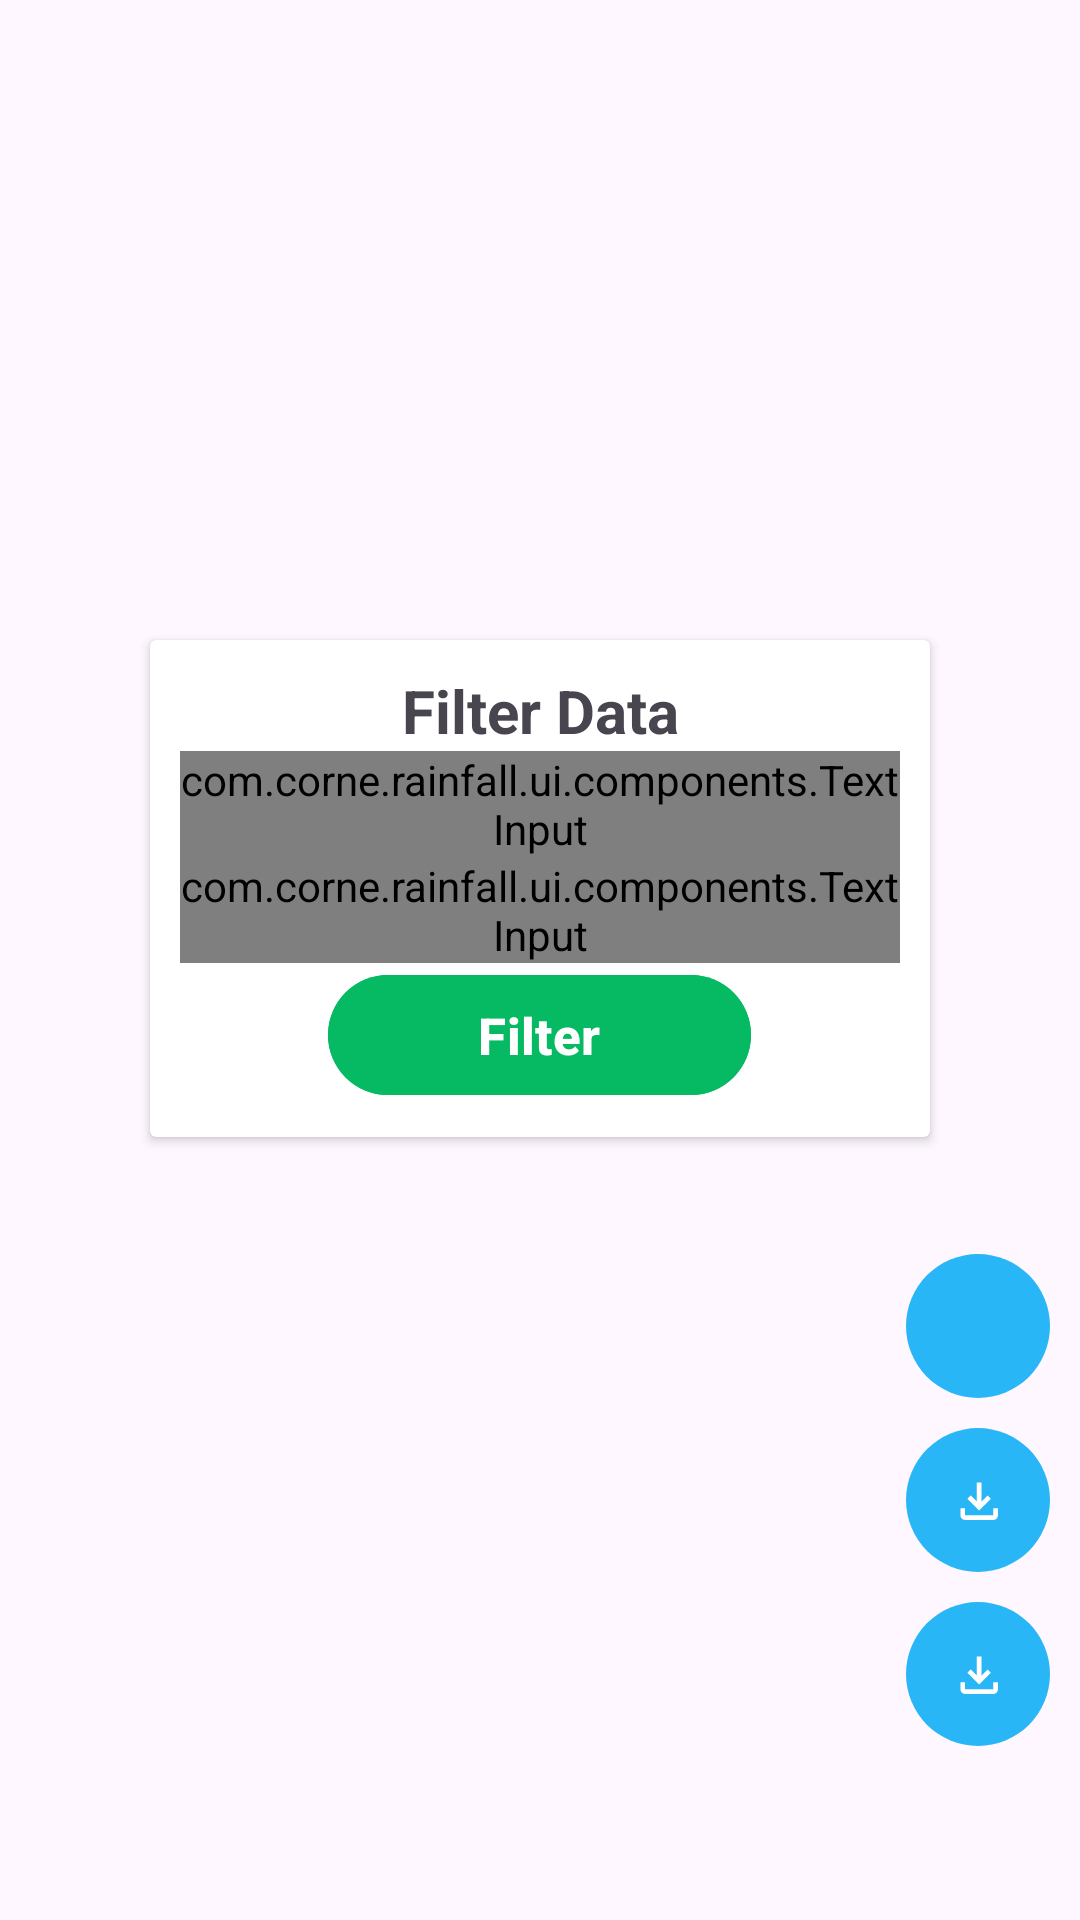

Icons on this 1080 × 1920 Android screen, each with its box as (x1, y1, x2, y2):
download: (906, 1428, 1050, 1572), (906, 1602, 1050, 1746)
